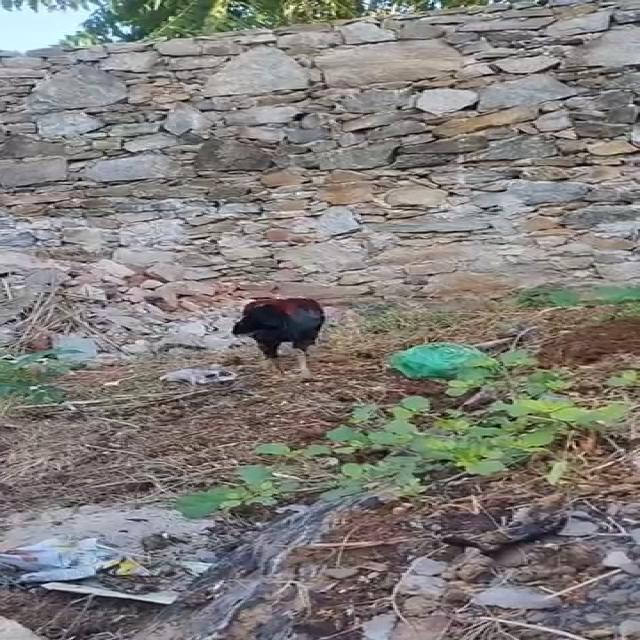stand bath: (217, 282, 366, 384)
